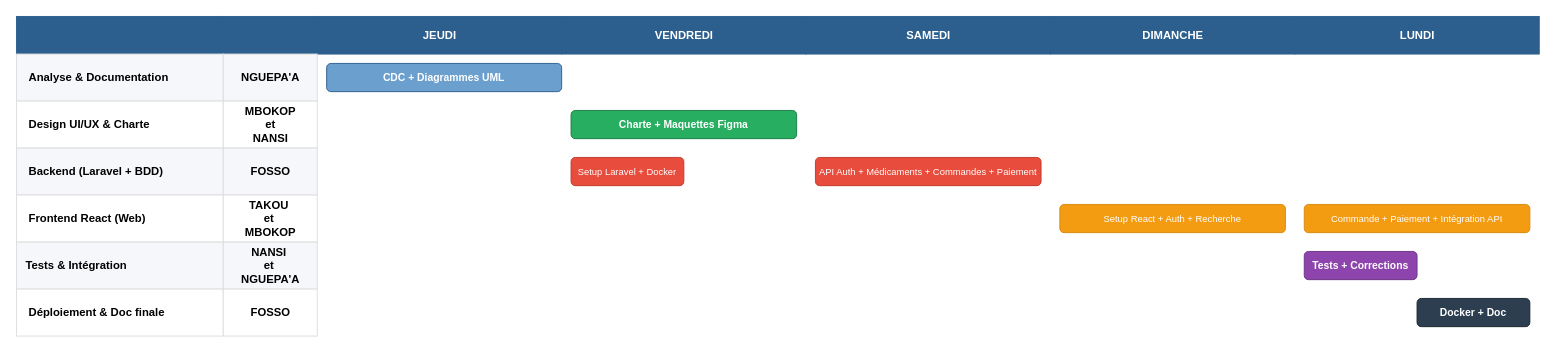
Some shapes in this 1556 by 353 pixel diagram are drawn without their labels. The shapes that lost their labels are listed below. From the top down, each one's centre as x and y in pixels, then its label:
At point (119, 35): "Phase".
At point (269, 35): "Assign".
